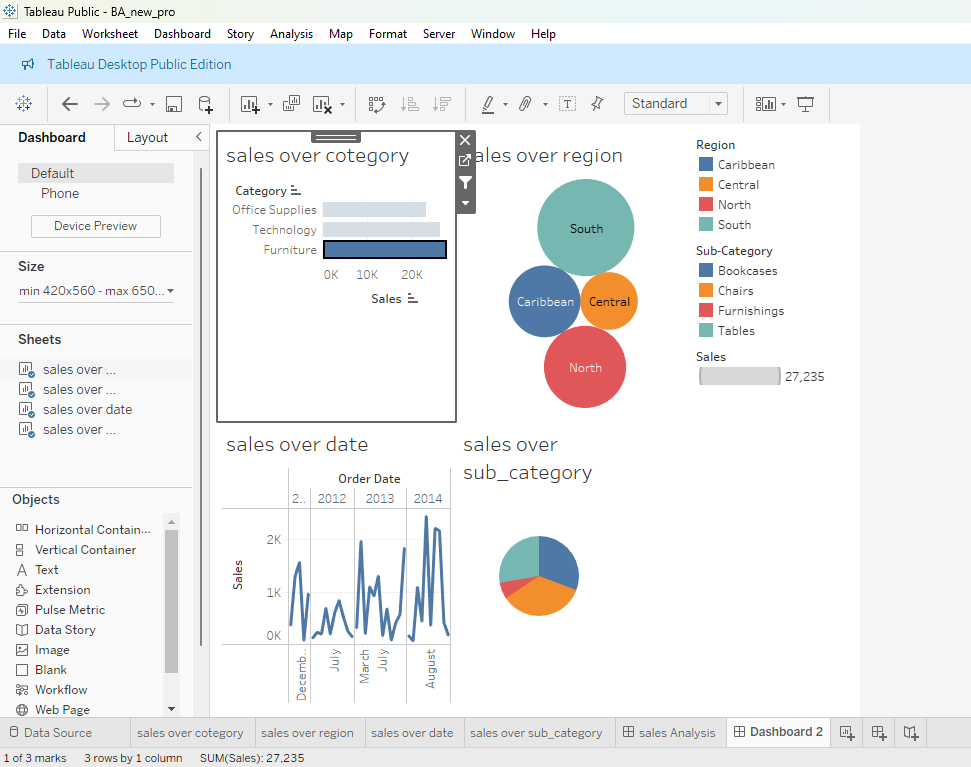

Layout of this report page (visuals, bound fields, positions):
{"tool":"tableau","page":{"name":"Salse Analysis","canvas":[650,860],"ordinal":0},"visuals":[{"type":"worksheet","title":"sales over cotegory","mark":"Automatic","rows":["Category"],"cols":["Sales"],"box":[8,11.6,237,418.4]},{"type":"worksheet","title":"sales over region","mark":"Circle","box":[245,11.6,237,418.4]},{"type":"legend","title":"sales over region","param":"[federated.16ror0r1j0xsge17hlduq1r85pwb].[none:Region:nk]","box":[482,11.6,160,153.7]},{"type":"legend","title":"sales over sub_category","param":"[federated.16ror0r1j0xsge17hlduq1r85pwb].[none:Sub-Category:nk]","box":[482,165.3,160,153.7]},{"type":"legend","title":"sales over sub_category","param":"[federated.16ror0r1j0xsge17hlduq1r85pwb].[sum:Sales:qk]","box":[482,319.1,160,66.7]},{"type":"worksheet","title":"sales over date","mark":"Automatic","rows":["Sales"],"cols":["Order Date","Order Date"],"box":[8,430,237,418.4]},{"type":"worksheet","title":"sales over sub_category","mark":"Pie","box":[245,430,237,418.4]}]}

Visuals, with their boxes on the page's 650x860 design canvas (x1, y1, x2, y2). These are canvas units, not pixel positions in the 971x767 screenshot, which may show the page scaled, cropped or inside an application window:
"sales over cotegory" worksheet: BBox(8, 12, 245, 430)
"sales over region" worksheet (Circle marks): BBox(245, 12, 482, 430)
"sales over region" legend: BBox(482, 12, 642, 165)
"sales over sub_category" legend: BBox(482, 165, 642, 319)
"sales over sub_category" legend: BBox(482, 319, 642, 386)
"sales over date" worksheet: BBox(8, 430, 245, 848)
"sales over sub_category" worksheet (Pie marks): BBox(245, 430, 482, 848)
